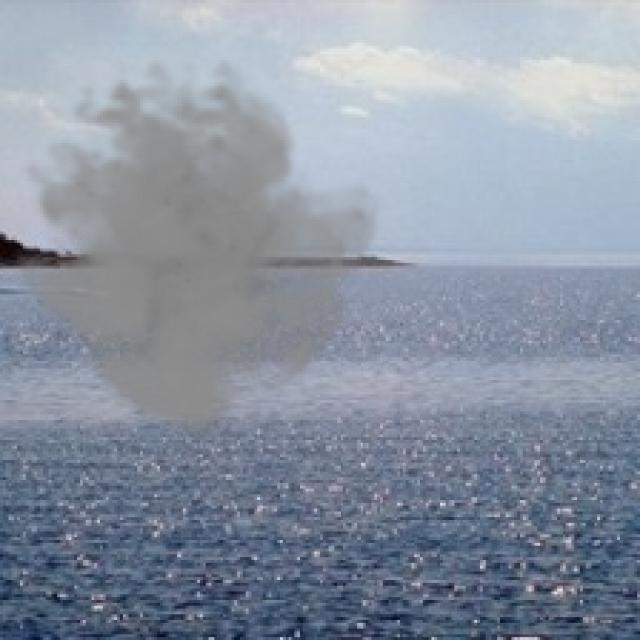smoke: (0, 57, 386, 440)
